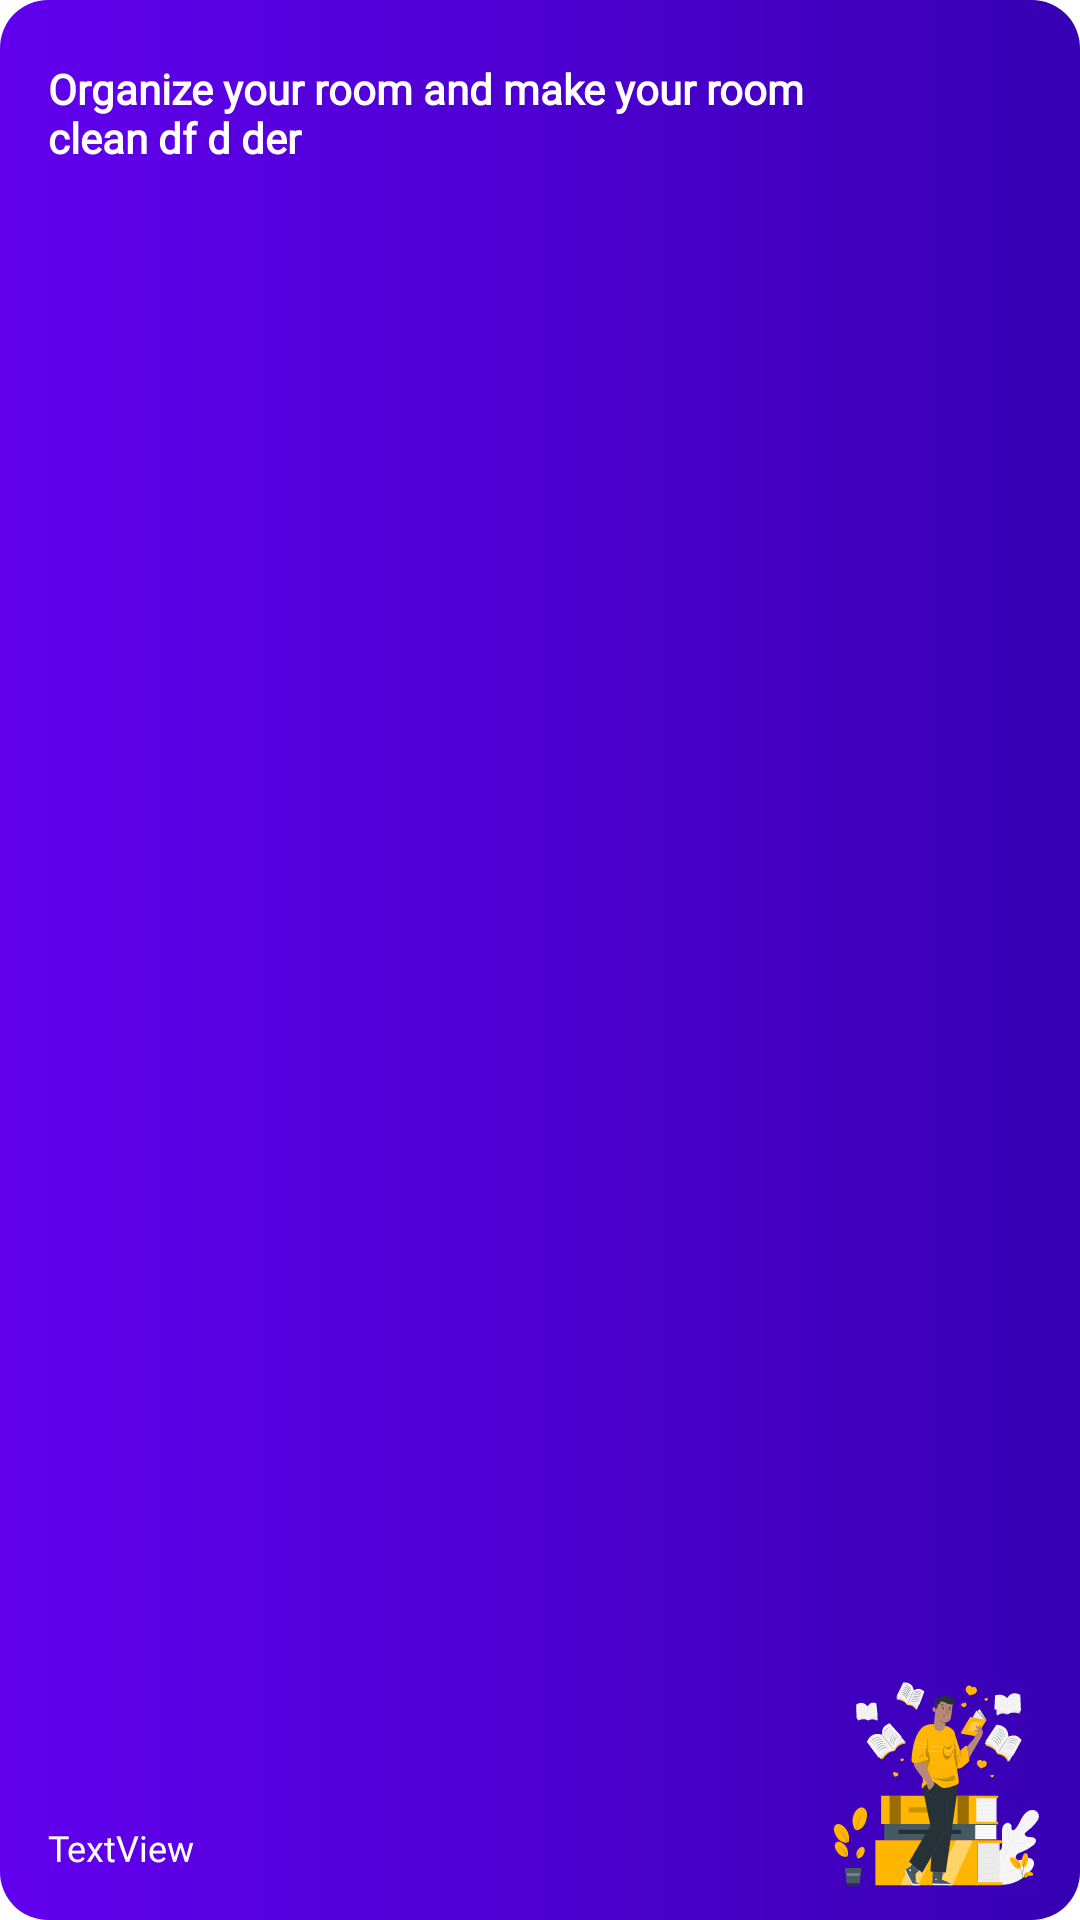

Icons on this 1080*1920 Android screen, each with its box as (x1, y1, x2, y2):
book lover pana: (833, 1682, 1039, 1886)
